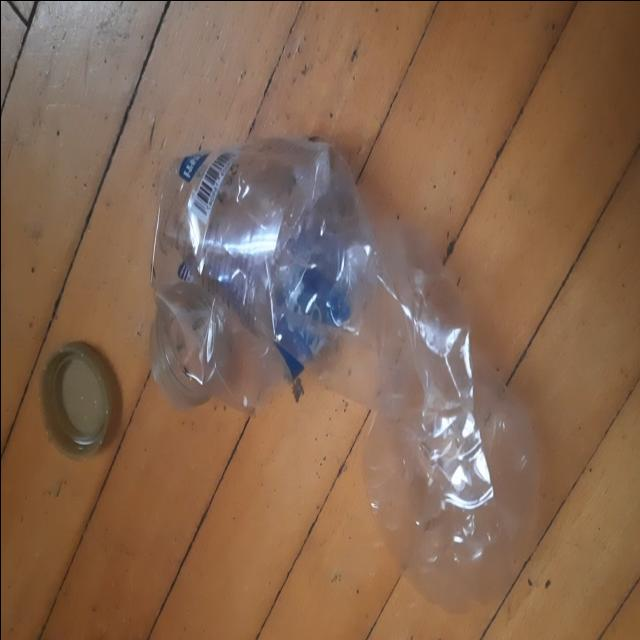Plastic: (151, 136, 540, 614)
